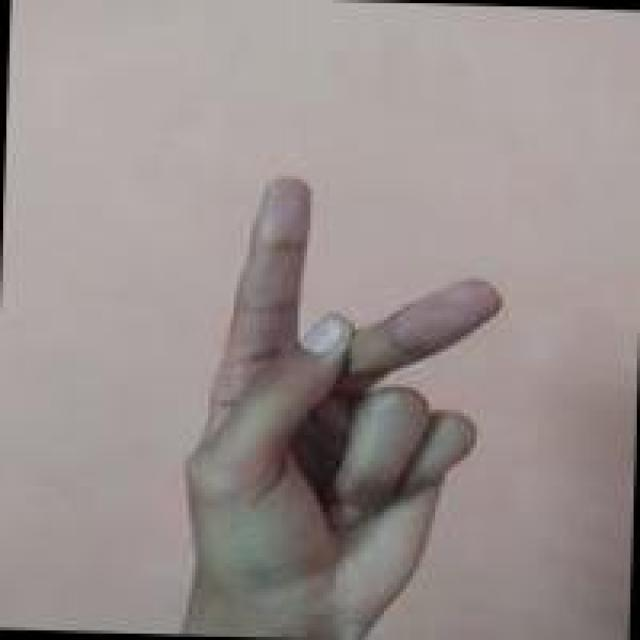K: (168, 162, 514, 638)
